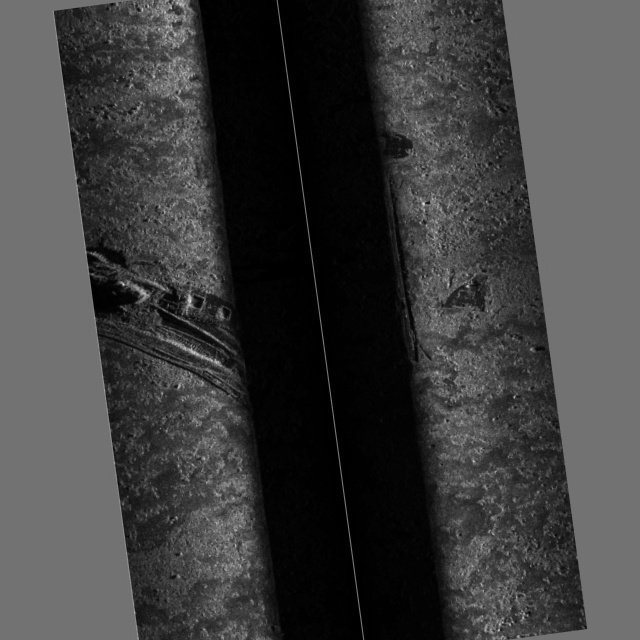Shipwreck: (76, 120, 511, 429)
